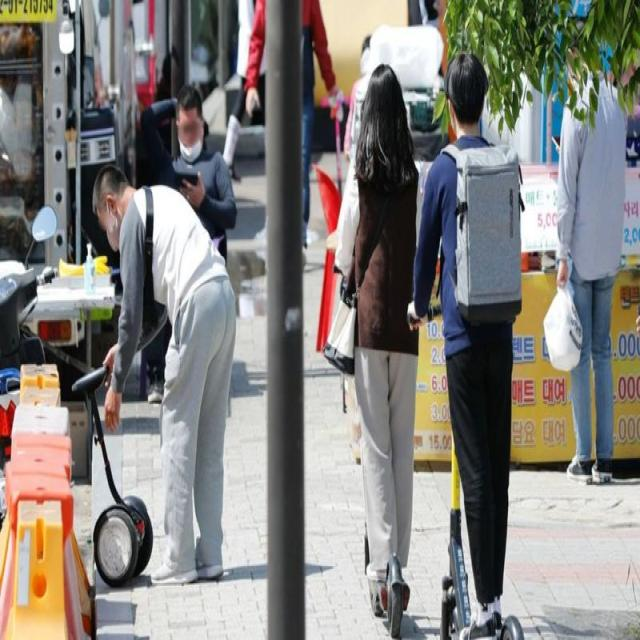non-helmet: (405, 47, 550, 640), (317, 54, 425, 640)
